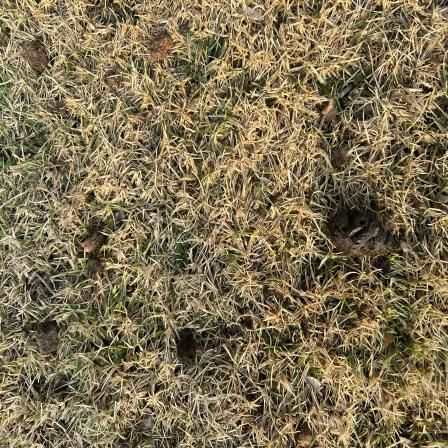dog-poop: (321, 193, 403, 267)
